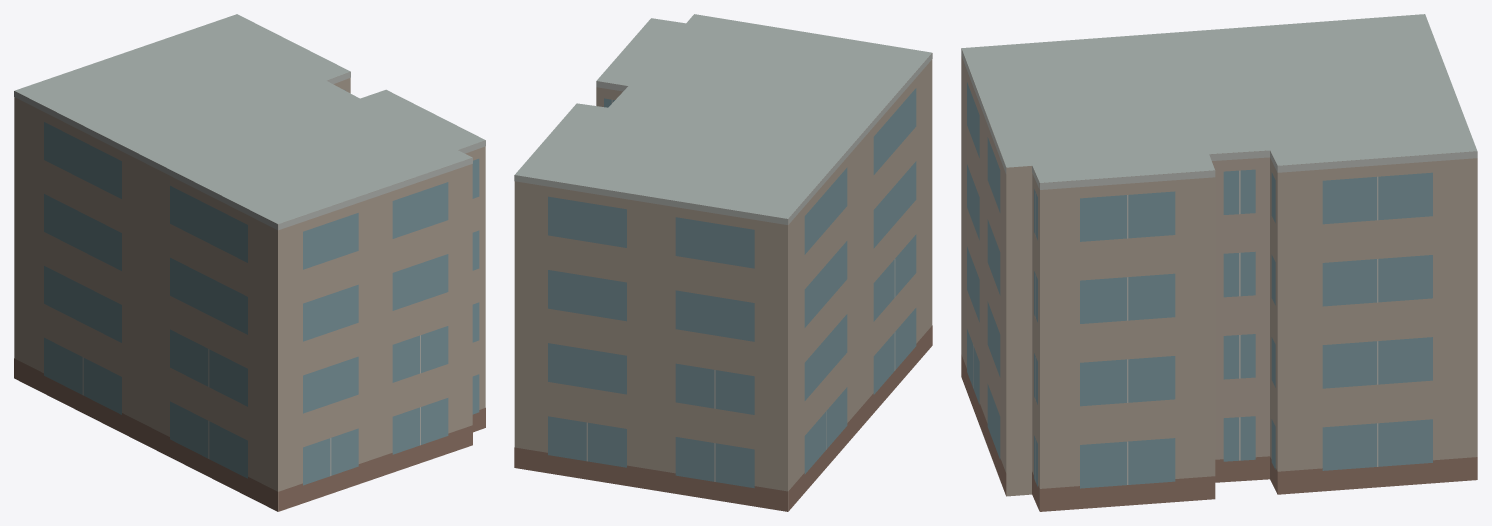
Rendered from survey-upis-32976324.glb.
The picture shows the model from 3 angles, left to right: view 1: azimuth 30°, elevation 25°; view 2: azimuth 150°, elevation 25°; view 3: azimuth 270°, elevation 25°; orthographic projection. The views are drawn at different scales.
Visible parts, largest first — view 1: survey-upis-32976324.tmp; view 2: survey-upis-32976324.tmp; view 3: survey-upis-32976324.tmp.
Part boxes in pixels (<box>): survey-upis-32976324.tmp: <box>14,14,485,511</box>; survey-upis-32976324.tmp: <box>514,14,932,511</box>; survey-upis-32976324.tmp: <box>961,14,1477,511</box>.
Bounding box in the file's own units: 12.66 × 11.47 × 16.33.
